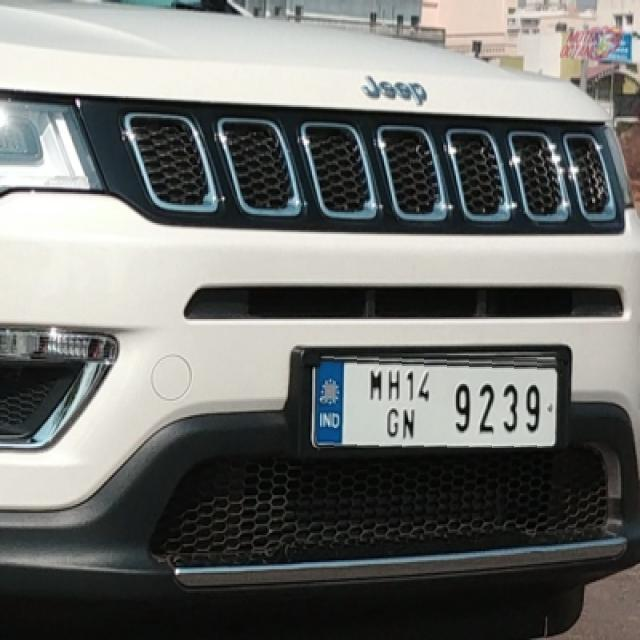licence: (300, 348, 562, 448)
